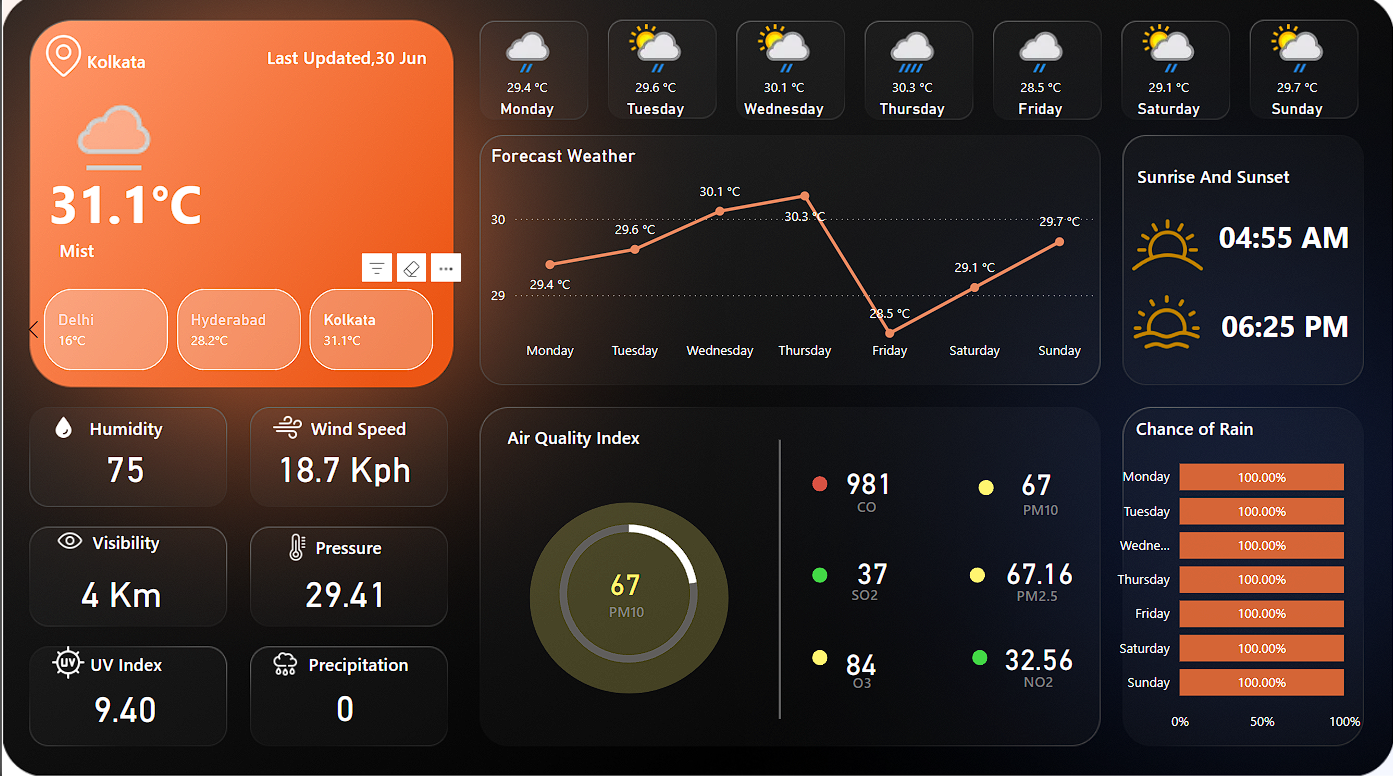

The dashboard page shown, as its layout file describes it:
{"tool":"powerbi","page":{"name":"Page 1","canvas":[1280,720],"ordinal":0},"visuals":[{"type":"shape","box":[484.8,465.5,183.3,176.1],"z":0},{"type":"advancedSlicerVisual","fields":{"Values":["Location.location.name"]},"box":[14.1,264.1,409.4,85.9],"z":1000},{"type":"shape","box":[0,129.7,226.6,118.8],"z":2000},{"type":"shape","box":[53.1,212.3,360.6,41],"z":3000},{"type":"shape","box":[243.8,35.9,167.2,40.6],"z":4000},{"type":"shape","box":[78.1,39.1,143.8,40.6],"z":5000},{"type":"image","box":[31.2,31.2,51.6,48.4],"z":6000},{"type":"cardVisual","fields":{"Data":["Min(Current.current.condition.icon)"]},"box":[34.6,59.2,125.5,118.3],"z":7000},{"type":"lineChart","title":"Forecast Weather","fields":{"Y":["Sum(Forecast_dayy.forecast.forecastday.day.avgtemp_c)"],"Category":["Forecast_dayy.Day_name"]},"box":[444.4,137.1,564.1,207.8],"z":8000},{"type":"advancedSlicerVisual","fields":{"Values":["Forecast_dayy.Day_name"]},"box":[423.4,10.9,829.7,118.8],"z":9000},{"type":"shape","box":[1099.4,180.3,160.1,79.4],"z":10000},{"type":"shape","box":[1080.6,259.7,199.1,85.1],"z":11000},{"type":"hundredPercentStackedBarChart","fields":{"Category":["Forecast_dayy.Day_name"],"Y":["Sum(Forecast_dayy.forecast.forecastday.day.daily_chance_of_rain)"]},"box":[1007.5,405,246.2,281.2],"z":12000},{"type":"shape","box":[39,378,150,37.5],"z":13000},{"type":"shape","box":[865.7,453,178.9,37.5],"z":14000},{"type":"shape","box":[39,595.9,150,37.5],"z":15000},{"type":"shape","box":[39,483.3,150,37.5],"z":16000},{"type":"shape","box":[252.5,595.9,150,37.5],"z":17000},{"type":"shape","box":[243.8,487.7,150,37.5],"z":18000},{"type":"shape","box":[252.5,378,150,37.5],"z":19000},{"type":"image","box":[1021.5,180.3,99.6,96.7],"z":20000},{"type":"image","box":[41.8,378,30.3,37.5],"z":21000},{"type":"image","box":[43.3,483.3,37.5,36.1],"z":22000},{"type":"image","box":[34.6,591.5,53.4,41.8],"z":23000},{"type":"image","box":[243.8,369.3,37.5,54.8],"z":24000},{"type":"image","box":[252.5,489.1,37.5,34.6],"z":25000},{"type":"image","box":[242.4,595.9,36.1,37.5],"z":26000},{"type":"image","box":[1031.6,264,80.8,70.7],"z":27000},{"type":"shape","box":[1031.6,142.8,165.9,46.2],"z":28000},{"type":"cardVisual","fields":{"Data":["Sum(Current.current.humidity)"]},"box":[77.9,392.4,99.6,63.5],"z":29000},{"type":"cardVisual","fields":{"Data":["Sum(Current.current.uv)"]},"box":[66.4,613.2,111.1,64.9],"z":30000},{"type":"cardVisual","fields":{"Data":["Sum(Current.current.precip_in)"]},"box":[290,611.7,88,64.9],"z":31000},{"type":"cardVisual","fields":{"Data":["_Measures.Visibility"]},"box":[54.8,506.4,135.6,64.9],"z":32000},{"type":"cardVisual","fields":{"Data":["Sum(Current.current.pressure_in)"]},"box":[261.1,506.4,118.3,64.9],"z":33000},{"type":"cardVisual","fields":{"Data":["_Measures.Wind_speed"]},"box":[235.2,392.4,184.7,64.9],"z":34000},{"type":"cardVisual","fields":{"Data":["Sum(Current.current.air_quality.pm10)"]},"box":[919,409.7,89.5,56.3],"z":35000},{"type":"shape","box":[718.5,530.9,150,37.5],"z":36000},{"type":"shape","box":[715.6,613.2,150,37.5],"z":37000},{"type":"shape","box":[878.6,611.7,150,37.5],"z":38000},{"type":"shape","box":[725.7,450.1,139.9,37.5],"z":39000},{"type":"shape","box":[877.2,532.4,150,37.5],"z":40000},{"type":"cardVisual","fields":{"Data":["Sum(Current.current.air_quality.so2)"]},"box":[769,490.5,95.2,67.8],"z":41000},{"type":"cardVisual","fields":{"Data":["Sum(Current.current.air_quality.pm2_5)"]},"box":[906.1,490.5,132.7,67.8],"z":42000},{"type":"cardVisual","fields":{"Data":["Sum(Current.current.air_quality.co)"]},"box":[758.9,408.3,95.2,67.8],"z":43000},{"type":"cardVisual","fields":{"Data":["Sum(Current.current.air_quality.no2)"]},"box":[904.6,569.9,135.6,67.8],"z":44000},{"type":"cardVisual","fields":{"Data":["Sum(Current.current.air_quality.o3)"]},"box":[758.9,574.2,95.2,67.8],"z":45000},{"type":"shape","box":[744.5,441.5,14.4,14.4],"z":46000},{"type":"shape","box":[744.5,525.2,14.4,14.4],"z":47000},{"type":"shape","box":[744.5,601.6,14.4,14.4],"z":48000},{"type":"shape","box":[897.4,444.4,14.4,14.4],"z":49000},{"type":"shape","box":[891.6,601.6,14.4,14.4],"z":50000},{"type":"shape","box":[890.2,525.2,14.4,14.4],"z":51000},{"type":"shape","box":[450.1,386.7,150,37.5],"z":52000},{"type":"cardVisual","fields":{"Data":["Sum(Current.current.air_quality.pm10)"]},"box":[541.5,489.6,74.8,95.3],"z":53000},{"type":"donutChart","fields":{"Y":["Sum(Current.current.air_quality.pm10)","_Measures.Left_value_Pm10"]},"box":[492.1,446.2,168.8,207.4],"z":54000},{"type":"shape","box":[640.6,408.3,150,256.8],"z":55000},{"type":"shape","box":[1021.5,378,150,37.5],"z":56000},{"type":"shape","box":[484.8,547.5,178.5,37.4],"z":57000}]}

Visuals, with their boxes in screenshot pixels (x1, y1, x2, y2), scaled from the page's 1280x720 canvas onto the 1393x776 screenshot:
shape: Rect(528, 502, 727, 692)
advancedSlicerVisual - Location.location.name: Rect(15, 285, 461, 377)
shape: Rect(0, 140, 247, 268)
shape: Rect(58, 229, 450, 273)
shape: Rect(265, 39, 447, 82)
shape: Rect(85, 42, 241, 86)
image: Rect(34, 34, 90, 86)
cardVisual - Min(Current.current.condition.icon): Rect(38, 64, 174, 191)
"Forecast Weather" lineChart: Rect(484, 148, 1098, 372)
advancedSlicerVisual - Forecast_dayy.Day_name: Rect(461, 12, 1364, 140)
shape: Rect(1196, 194, 1371, 280)
shape: Rect(1176, 280, 1392, 372)
hundredPercentStackedBarChart - Forecast_dayy.Day_name x Sum(Forecast_dayy.forecast.forecastday.day.daily_chance_of_rain): Rect(1096, 436, 1364, 740)
shape: Rect(42, 407, 206, 448)
shape: Rect(942, 488, 1137, 529)
shape: Rect(42, 642, 206, 683)
shape: Rect(42, 521, 206, 561)
shape: Rect(275, 642, 438, 683)
shape: Rect(265, 526, 429, 566)
shape: Rect(275, 407, 438, 448)
image: Rect(1112, 194, 1220, 299)
image: Rect(45, 407, 78, 448)
image: Rect(47, 521, 88, 560)
image: Rect(38, 638, 96, 683)
image: Rect(265, 398, 306, 457)
image: Rect(275, 527, 316, 564)
image: Rect(264, 642, 303, 683)
image: Rect(1123, 285, 1211, 361)
shape: Rect(1123, 154, 1303, 204)
cardVisual - Sum(Current.current.humidity): Rect(85, 423, 193, 491)
cardVisual - Sum(Current.current.uv): Rect(72, 661, 193, 731)
cardVisual - Sum(Current.current.precip_in): Rect(316, 659, 411, 729)
cardVisual - _Measures.Visibility: Rect(60, 546, 207, 616)
cardVisual - Sum(Current.current.pressure_in): Rect(284, 546, 413, 616)
cardVisual - _Measures.Wind_speed: Rect(256, 423, 457, 493)
cardVisual - Sum(Current.current.air_quality.pm10): Rect(1000, 442, 1098, 502)
shape: Rect(782, 572, 945, 613)
shape: Rect(779, 661, 942, 701)
shape: Rect(956, 659, 1119, 700)
shape: Rect(790, 485, 942, 526)
shape: Rect(955, 574, 1118, 614)
cardVisual - Sum(Current.current.air_quality.so2): Rect(837, 529, 940, 602)
cardVisual - Sum(Current.current.air_quality.pm2_5): Rect(986, 529, 1131, 602)
cardVisual - Sum(Current.current.air_quality.co): Rect(826, 440, 930, 513)
cardVisual - Sum(Current.current.air_quality.no2): Rect(984, 614, 1132, 687)
cardVisual - Sum(Current.current.air_quality.o3): Rect(826, 619, 930, 692)
shape: Rect(810, 476, 826, 491)
shape: Rect(810, 566, 826, 582)
shape: Rect(810, 648, 826, 664)
shape: Rect(977, 479, 992, 494)
shape: Rect(970, 648, 986, 664)
shape: Rect(969, 566, 984, 582)
shape: Rect(490, 417, 653, 457)
cardVisual - Sum(Current.current.air_quality.pm10): Rect(589, 528, 671, 630)
donutChart - Sum(Current.current.air_quality.pm10) x _Measures.Left_value_Pm10: Rect(536, 481, 719, 704)
shape: Rect(697, 440, 860, 717)
shape: Rect(1112, 407, 1275, 448)
shape: Rect(528, 590, 722, 630)
